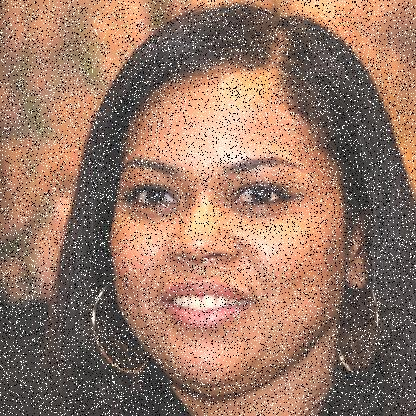eyeee: (224, 179, 305, 210), (115, 179, 184, 210)
mouthhz: (156, 275, 259, 334)
nosebb: (166, 198, 242, 265)
